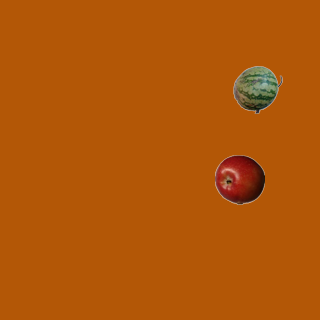Apple Braeburn: (214, 154, 264, 204)
Watermelon: (232, 64, 282, 114)
